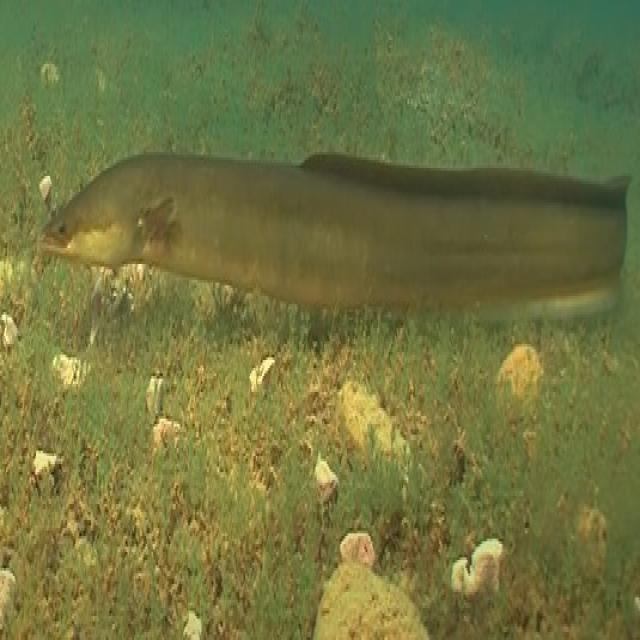Freshwater-Eel: (24, 72, 640, 338)
